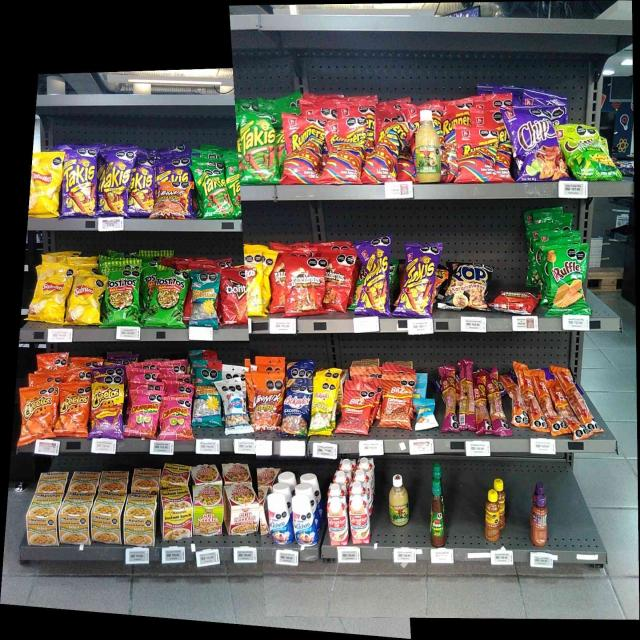bitzAlmendras: (415, 399, 436, 429)
bitzEnchilado90: (381, 374, 411, 428), (342, 385, 369, 433)
bitzEnchilado95: (558, 366, 589, 436), (540, 372, 556, 434), (524, 368, 538, 432), (508, 373, 522, 425)
bitzHabanero: (441, 365, 457, 431), (460, 362, 474, 430), (491, 369, 504, 434), (476, 373, 489, 432)
bokadosCacahuates: (285, 378, 307, 436)
botaneraChilito: (486, 490, 499, 540)
cheetosFlaminHot: (92, 378, 121, 438)
cheetosOriginal: (21, 387, 52, 436), (58, 386, 86, 436)
chipsFuego: (512, 110, 557, 179)
chipsPapatinas: (564, 125, 611, 178)
churrumais: (129, 389, 156, 438), (161, 393, 189, 438)
delPrimoSalsa: (415, 109, 441, 182), (390, 474, 409, 526)
doritosNacho: (221, 270, 244, 322)
fritosLimon: (245, 252, 265, 314)
leoCacahuates: (225, 380, 245, 431)
leoMix: (249, 372, 280, 431), (158, 183, 186, 217)
maruchanPollo: (126, 494, 156, 545), (28, 494, 58, 545), (93, 493, 122, 542), (62, 494, 90, 543)
maruchanRes: (161, 488, 192, 536)
nestleCarnation: (349, 496, 370, 542), (328, 498, 347, 544)
nestleLechera: (268, 492, 291, 544), (292, 496, 317, 543)
nissinCamaron: (194, 486, 222, 533)
nissinRes: (226, 486, 259, 533)
popKarameladas: (449, 262, 489, 310)
rancheritos: (286, 256, 323, 314), (326, 250, 353, 310), (270, 250, 284, 310), (496, 290, 534, 312)
rufflesQueso: (548, 246, 586, 315)
runners: (285, 114, 319, 183), (458, 125, 494, 182), (369, 120, 402, 181), (327, 121, 359, 181)
sabritasOriginal: (30, 152, 60, 216), (36, 268, 68, 322), (72, 276, 100, 323)
salsaBufalo: (429, 479, 445, 545)
semillasCalabaza: (313, 377, 331, 434)
semillasGirasol: (194, 371, 220, 425), (192, 272, 216, 324)
tajinDulce: (531, 494, 548, 545)
takisFuego: (62, 149, 97, 216), (358, 241, 389, 315), (403, 243, 432, 315), (99, 148, 129, 215), (132, 153, 154, 217)
takisOriginal: (240, 112, 276, 184), (198, 164, 228, 215)
tostitos: (106, 266, 139, 326), (154, 267, 182, 326)
